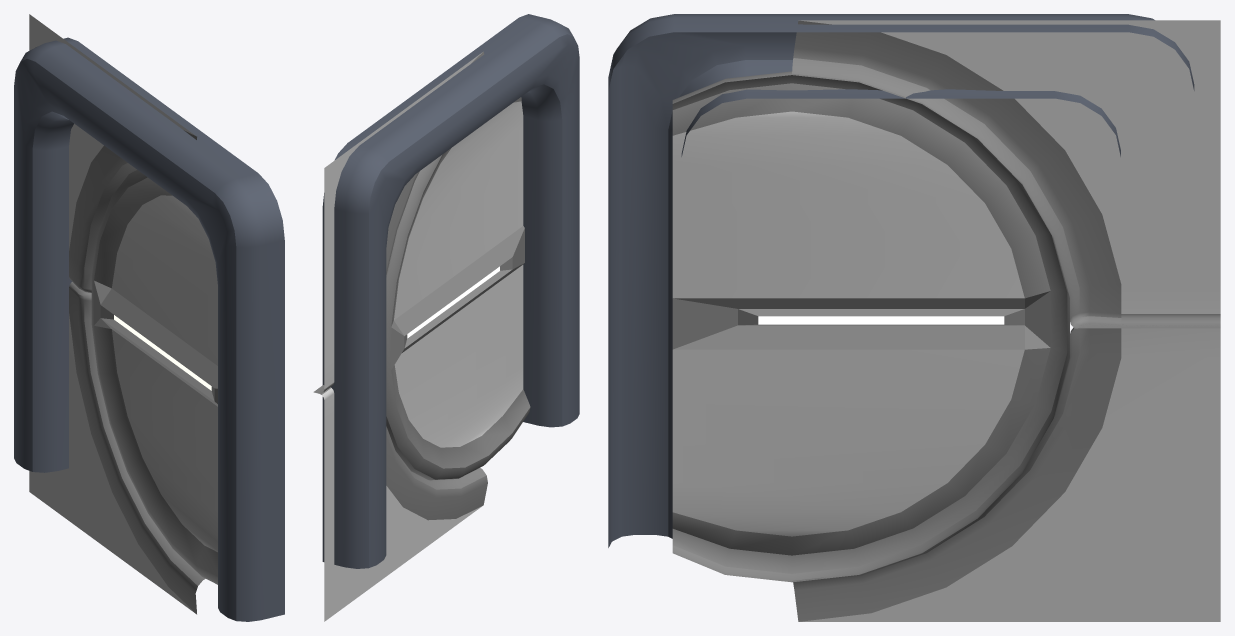
The model's file is Stern_Facing_Door_Group.fbx.
3 views of the same model, side by side, from view 1: azimuth 30°, elevation 25°; view 2: azimuth 150°, elevation 25°; view 3: azimuth 270°, elevation 25° (orthographic). The views are drawn at different scales.
Visible parts, largest first — view 1: Door_Frame, Door_01, Door_03, Door_02; view 2: Door_Frame, Door_01, Door_03, Door_02; view 3: Door_01, Door_02, Door_03, Door_Frame.
Part boxes in pixels (x1=…): Door_Frame: x1=14, y1=37, x2=284, y2=621; Door_01: x1=91, y1=169, x2=217, y2=584; Door_03: x1=29, y1=282, x2=205, y2=614; Door_02: x1=29, y1=14, x2=196, y2=292; Door_Frame: x1=322, y1=14, x2=579, y2=568; Door_01: x1=386, y1=97, x2=530, y2=480; Door_03: x1=315, y1=387, x2=487, y2=621; Door_02: x1=313, y1=51, x2=484, y2=393; Door_01: x1=672, y1=71, x2=1069, y2=582; Door_02: x1=792, y1=20, x2=1220, y2=328; Door_03: x1=792, y1=323, x2=1220, y2=621; Door_Frame: x1=608, y1=14, x2=1194, y2=547.
Size of the model in its own units: 98.19 by 971 by 896.
